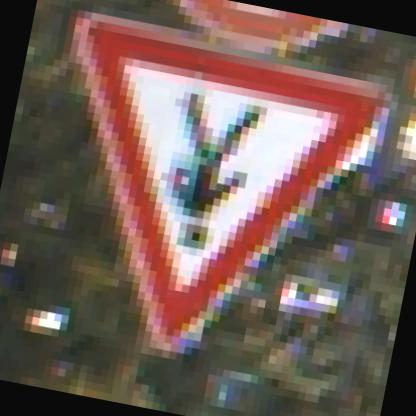crosswalk: (9, 3, 398, 376)
